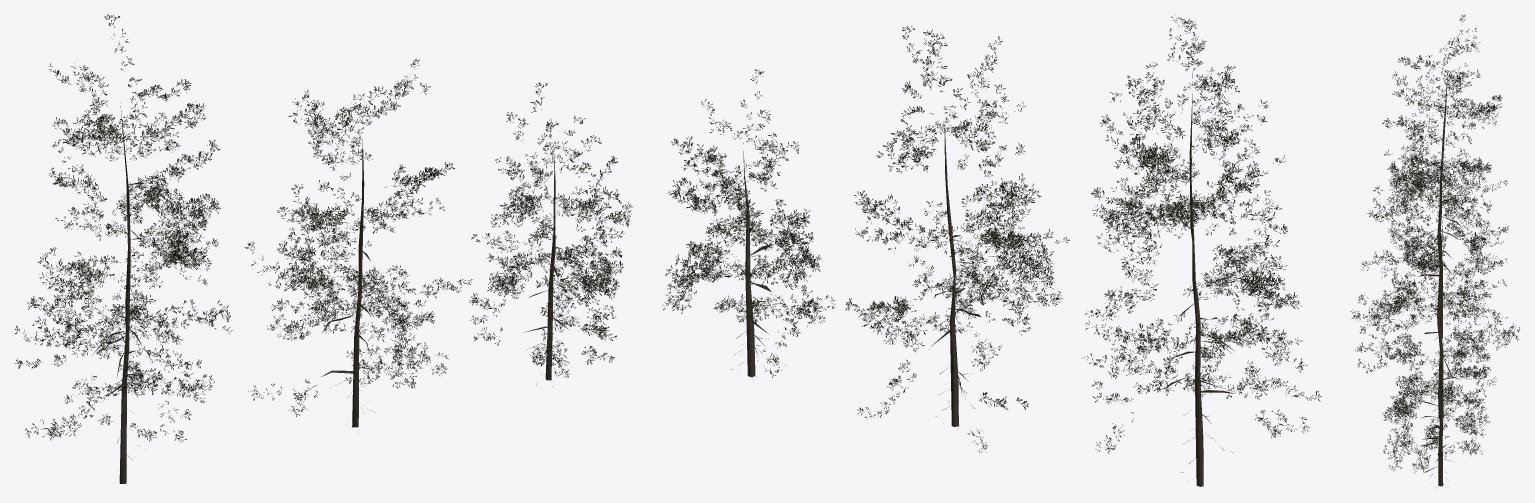
File: pine_young.glb
The picture shows the model from 3 angles, left to right: view 1: azimuth 30°, elevation 25°; view 2: azimuth 150°, elevation 25°; view 3: azimuth 270°, elevation 25°; orthographic projection. The views are drawn at different scales.
Visible parts, largest first — view 1: pine_sapling_medium_a_LOD0, pine_sapling_medium_b_LOD0, pine_sapling_medium_c_LOD0; view 2: pine_sapling_medium_a_LOD0, pine_sapling_medium_b_LOD0, pine_sapling_medium_c_LOD0; view 3: pine_sapling_medium_a_LOD0, pine_sapling_medium_b_LOD0, pine_sapling_medium_c_LOD0.
Part boxes in pixels (x1,y1,x2,y2): pine_sapling_medium_a_LOD0: (15, 14, 232, 483); pine_sapling_medium_b_LOD0: (244, 58, 472, 430); pine_sapling_medium_c_LOD0: (469, 82, 632, 386); pine_sapling_medium_a_LOD0: (1082, 14, 1321, 486); pine_sapling_medium_b_LOD0: (845, 26, 1069, 452); pine_sapling_medium_c_LOD0: (662, 69, 835, 377); pine_sapling_medium_a_LOD0: (1361, 14, 1508, 340); pine_sapling_medium_b_LOD0: (1350, 161, 1519, 427); pine_sapling_medium_c_LOD0: (1382, 295, 1490, 487).
Bounding box in the file's own units: 15.44 × 11.39 × 5.36.
3 materials, 3 textured.
